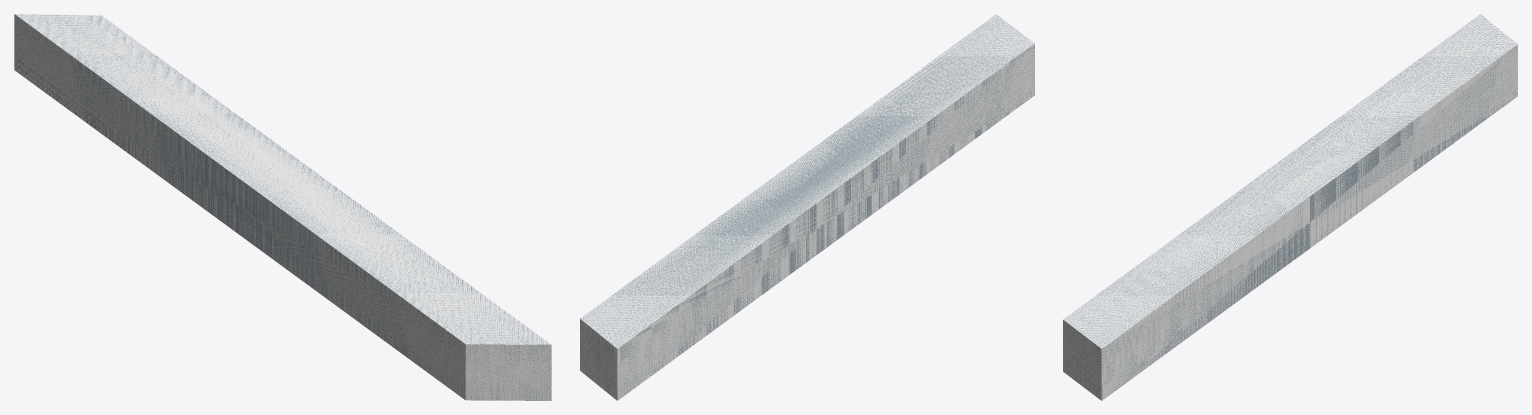
Rendered from banch3d21mm.dae.
3 views of the same model, side by side, from view 1: azimuth 30°, elevation 25°; view 2: azimuth 150°, elevation 25°; view 3: azimuth 330°, elevation 25° (orthographic). The views are drawn at different scales.
Visible parts, largest first — view 1: SketchUp; view 2: SketchUp; view 3: SketchUp.
Part boxes in pixels (x1=…): SketchUp: x1=14, y1=14, x2=551, y2=400; SketchUp: x1=580, y1=14, x2=1034, y2=400; SketchUp: x1=1063, y1=14, x2=1517, y2=400.
Size of the model in its own units: 0.7025 by 9.01 by 0.5906.
